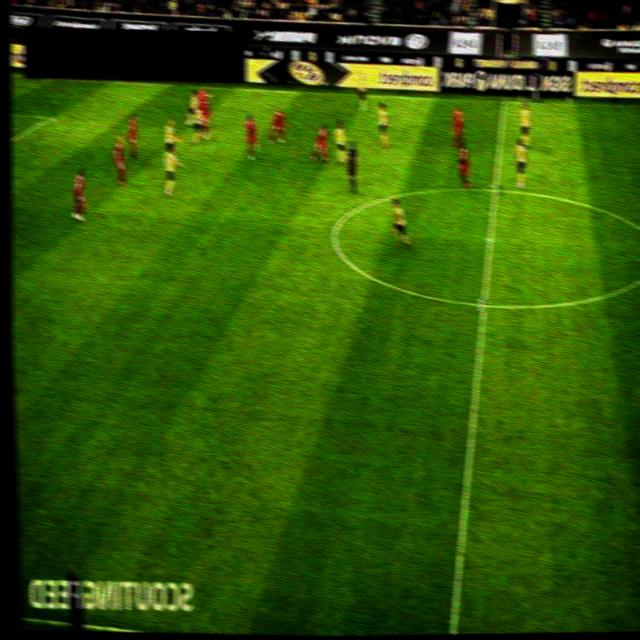bigarea_top_inner: (43, 111, 57, 123)
halfcircle_bottom: (474, 298, 491, 311)
halfcircle_top: (487, 184, 503, 197)
midline_top_intersection: (497, 95, 511, 107)
